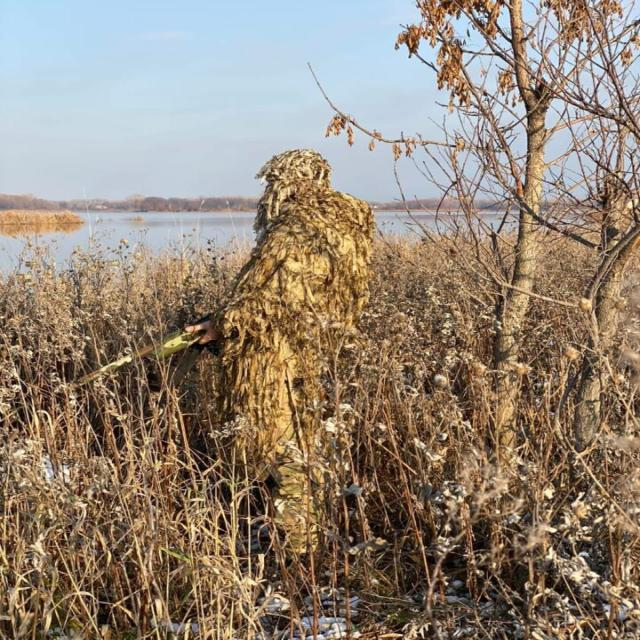Camouflage: (43, 150, 374, 604)
